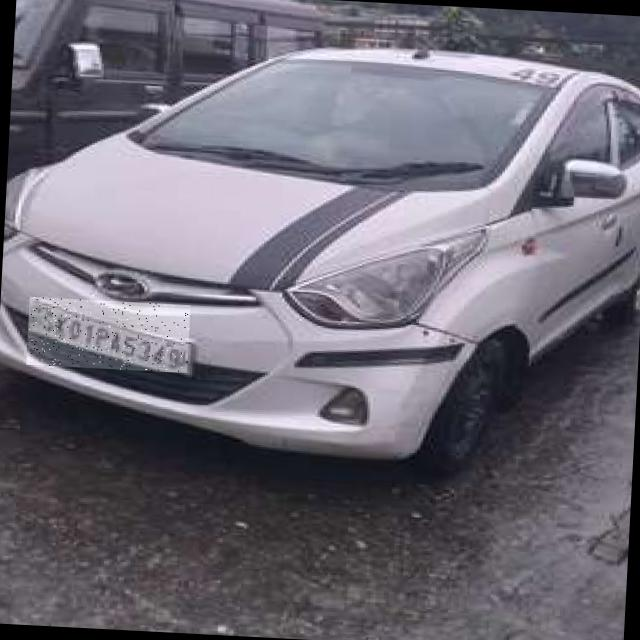Plate: (28, 298, 192, 374)
